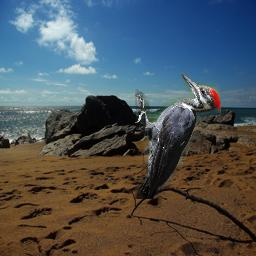Woodpecker: (135, 73, 221, 199)
